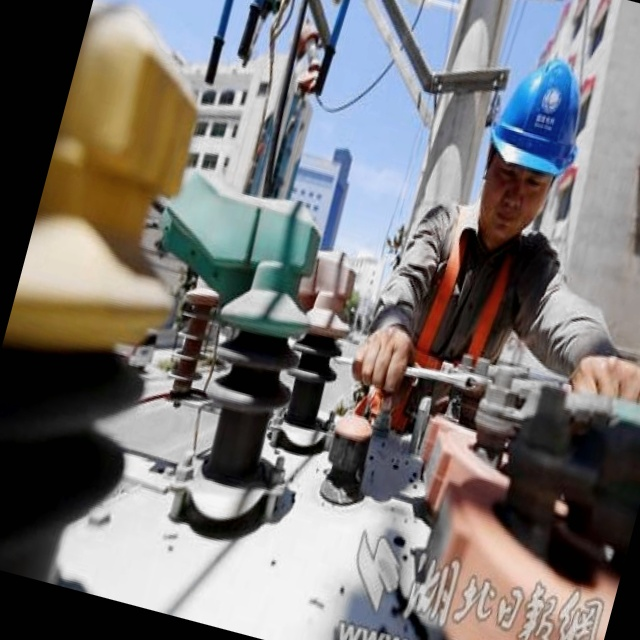Con_Casco: (466, 44, 599, 249)
